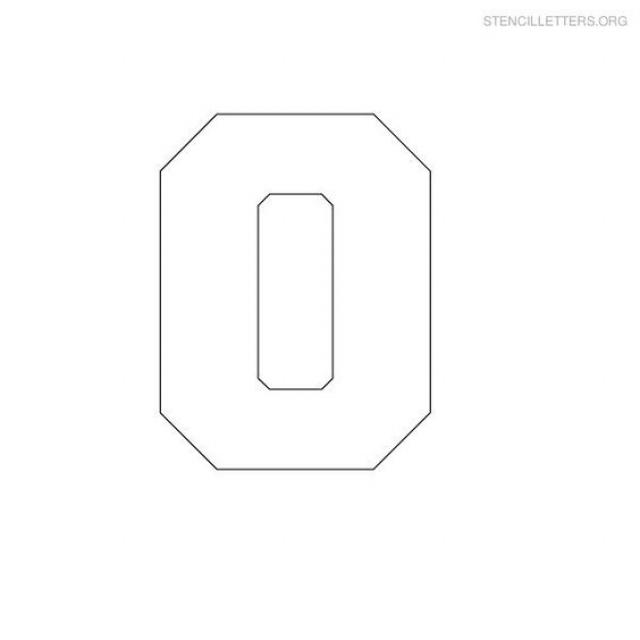O: (96, 74, 490, 505)
